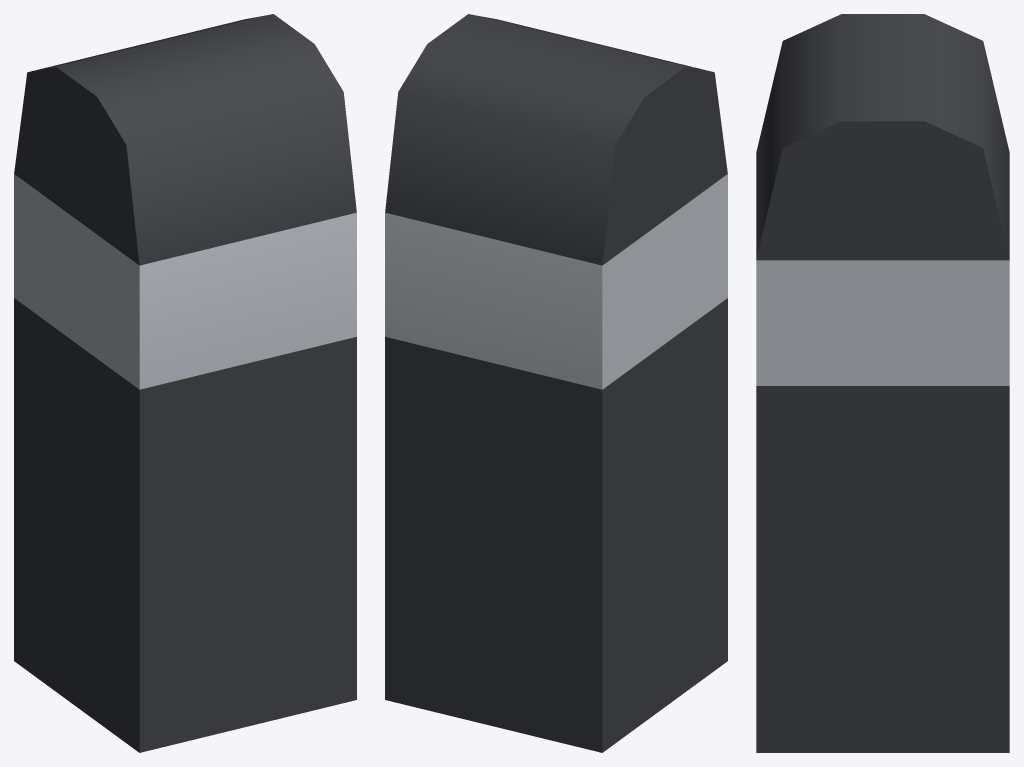
File: Small_Road_Block_005.glb
The picture shows the model from 3 angles, left to right: view 1: azimuth 30°, elevation 25°; view 2: azimuth 150°, elevation 25°; view 3: azimuth 270°, elevation 25°; orthographic projection.
Parts seen in each view (by area): view 1: Small Road Block.005; view 2: Small Road Block.005; view 3: Small Road Block.005.
Boxes of the visible parts, left/top/right/bottom form: Small Road Block.005: left=14, top=14, right=356, bottom=752; Small Road Block.005: left=385, top=14, right=727, bottom=752; Small Road Block.005: left=756, top=14, right=1009, bottom=752.
Bounding box in the file's own units: 2 × 5.5 × 2.
Materials: 1 (1 with a texture image).
